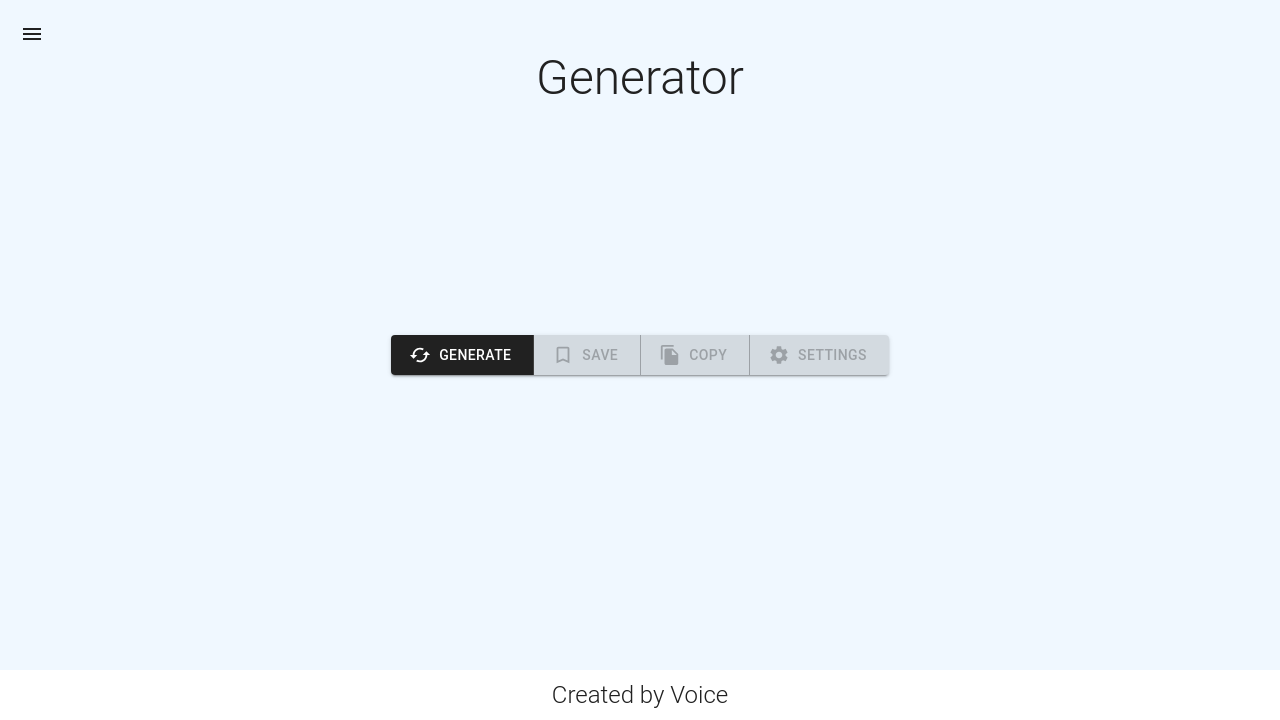
Test: Generate page › Delete button shows after saving a gradient
Click the button "generate".
click(463, 355)  # box [391,335,534,376]
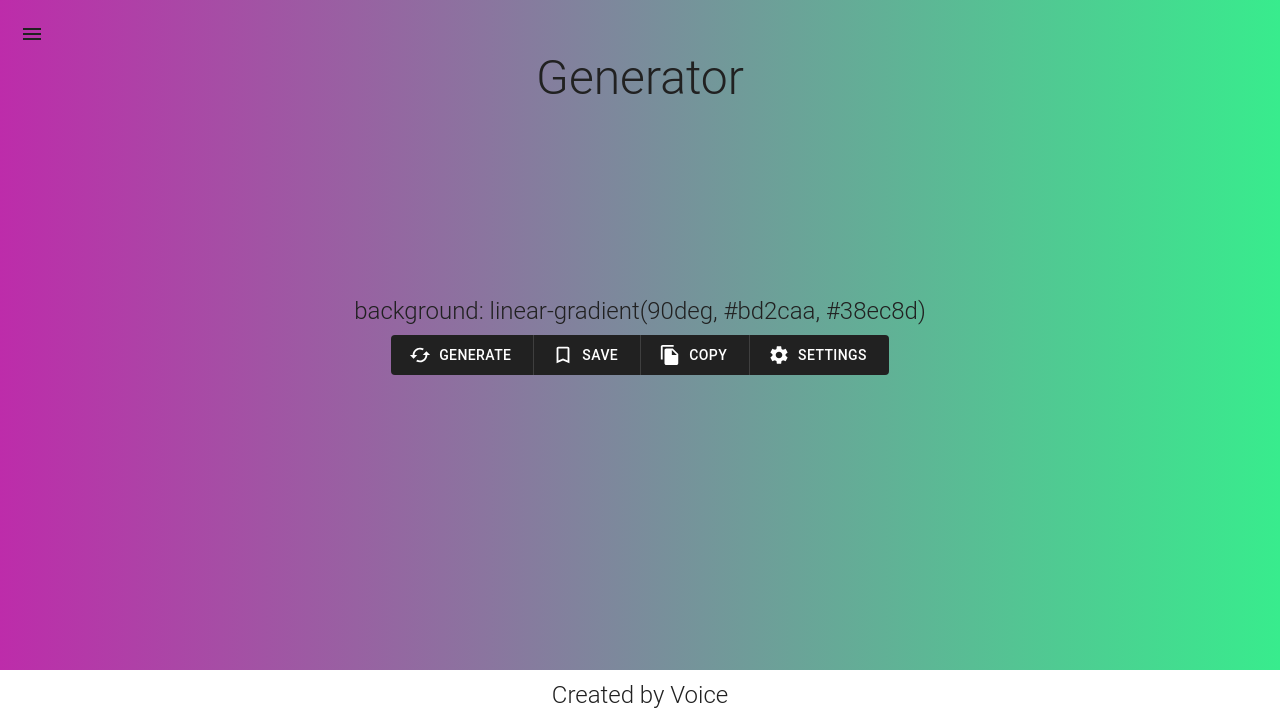
Click the button "save".
click(588, 355)  # box [534,335,641,376]
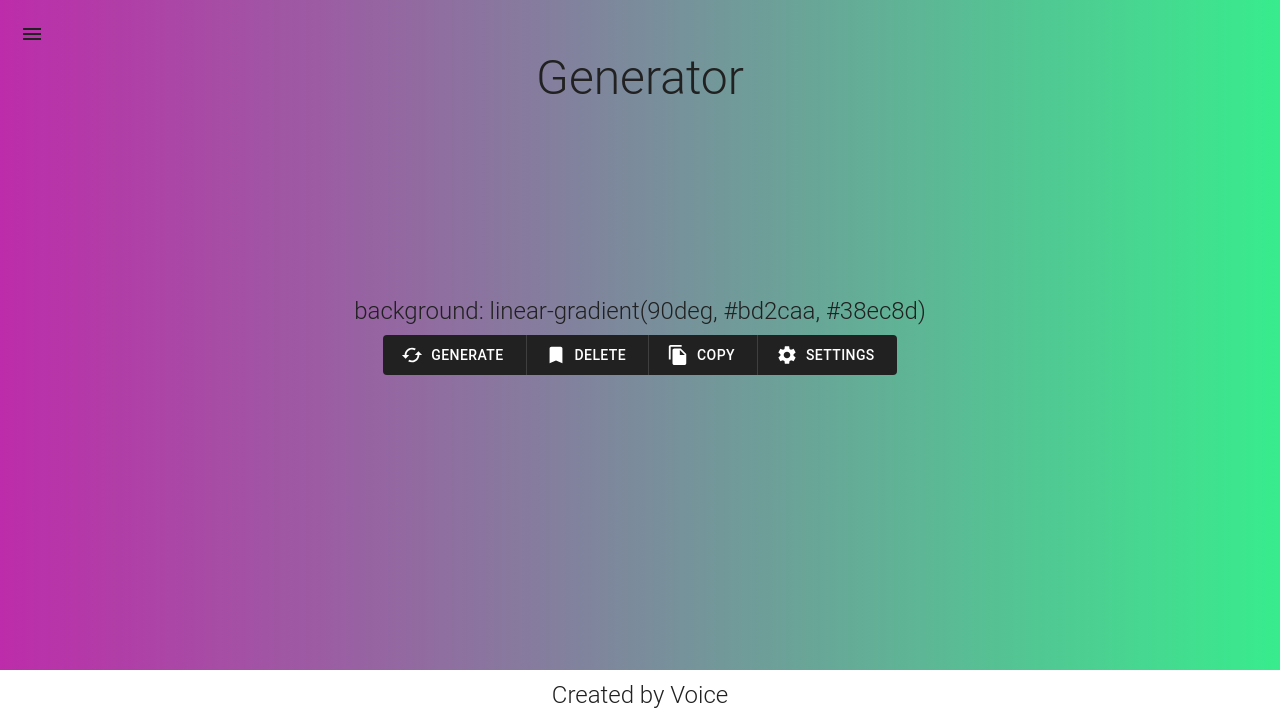
Check: the button "delete" is shown, box [574,343,626,368]
